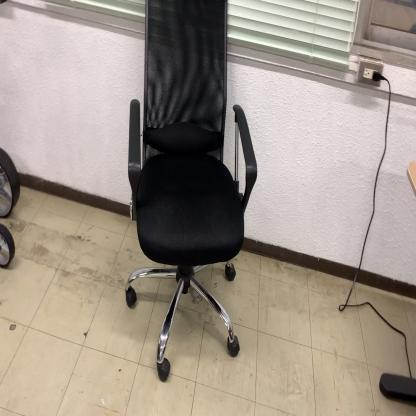chair: (124, 0, 258, 386)
